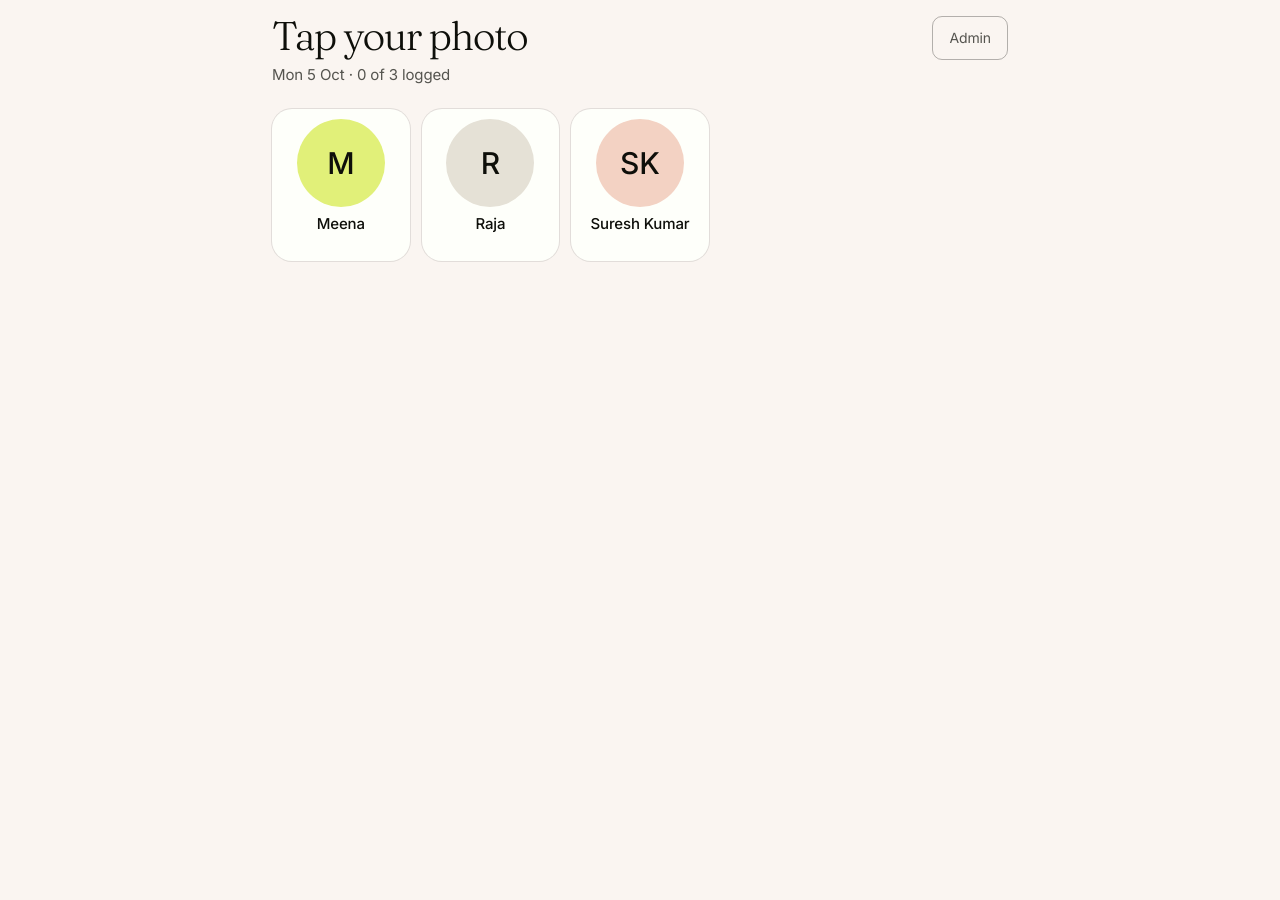
Test: Gate mode: the grid › shows the save error and keeps the grid
This screenshot has width=1280, height=900.
Click the button with aria-label "Raja: log arrival" at (490, 185), box 422,109 -> 559,261
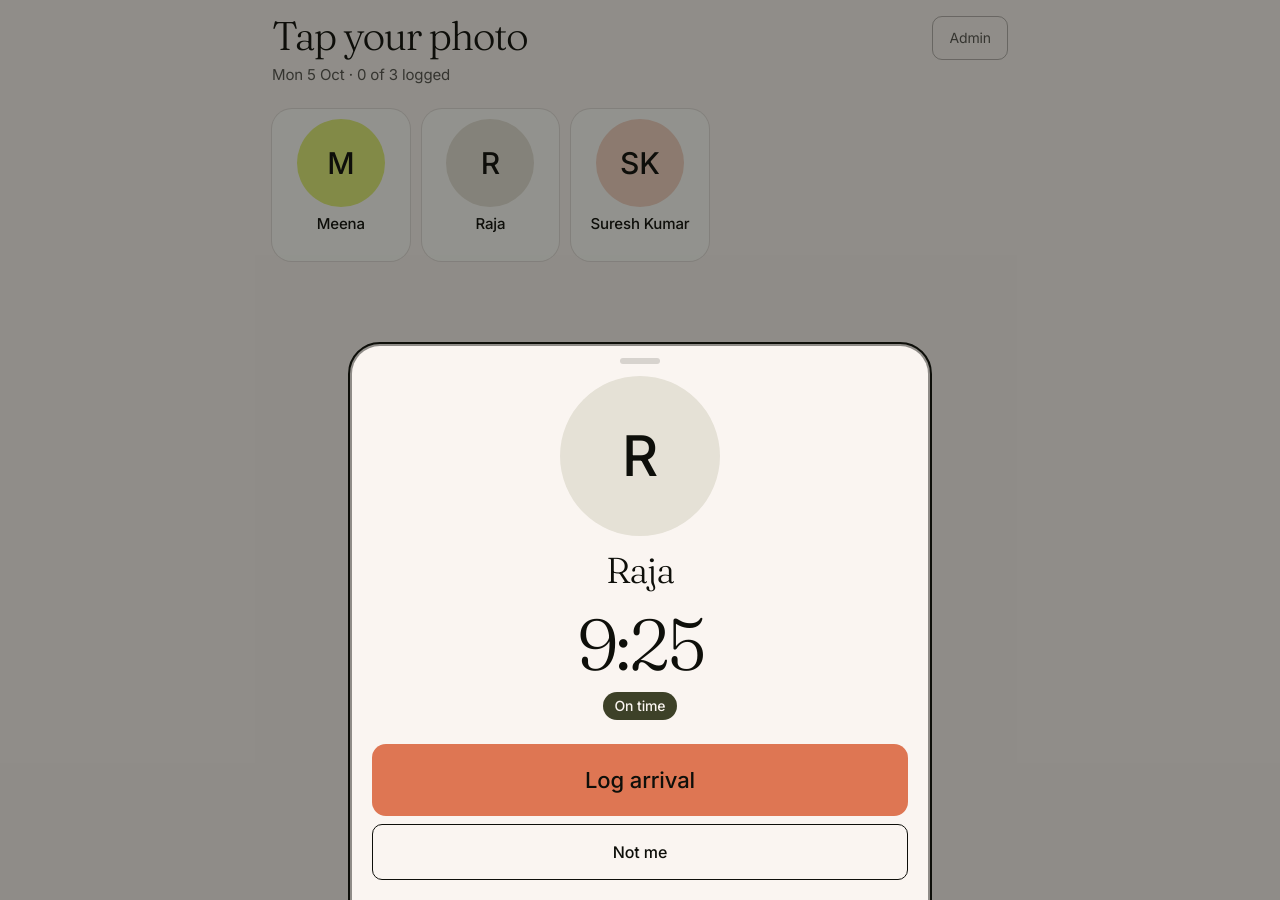
Click the button "Log arrival" at (640, 780), box 372,744 -> 908,816
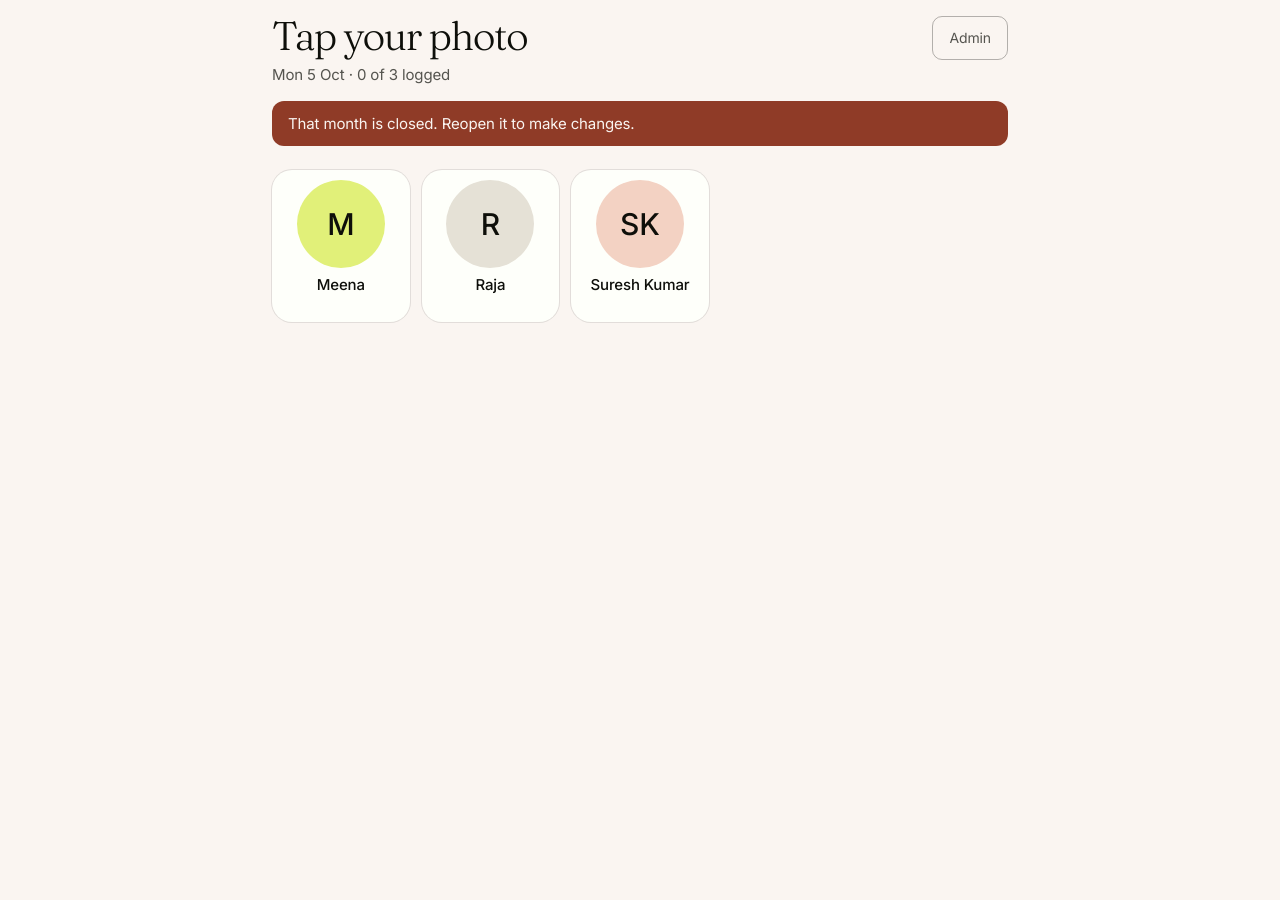
expect the text "That month is closed. Reopen it to make changes." is shown: met, box 272,101 -> 1008,146
